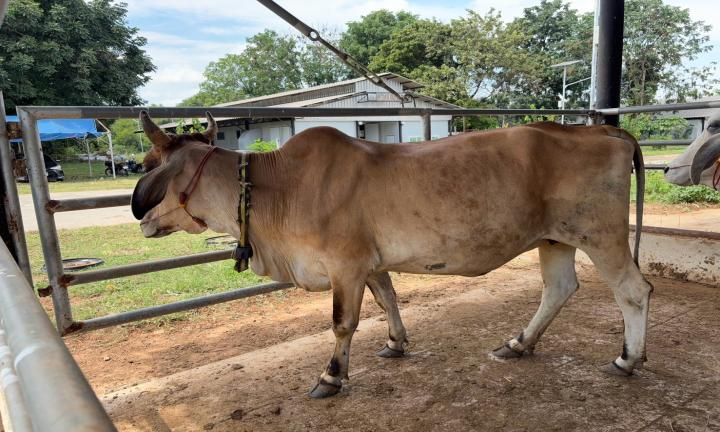Brahman: (132, 110, 652, 397)
